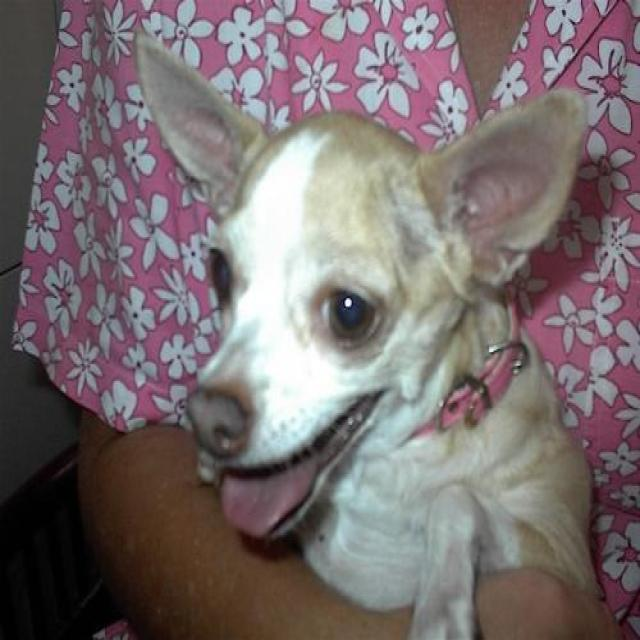Dogs: (130, 27, 626, 638)
